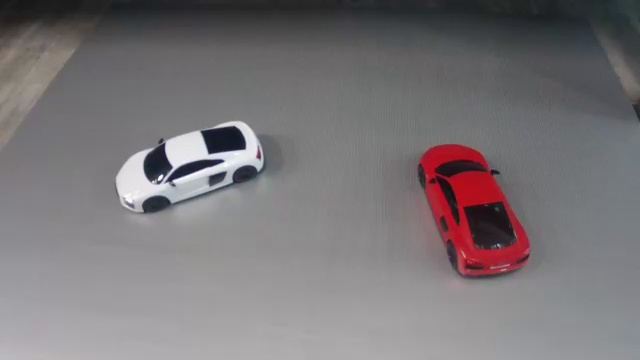car: (418, 142, 531, 277), (115, 120, 265, 214)
